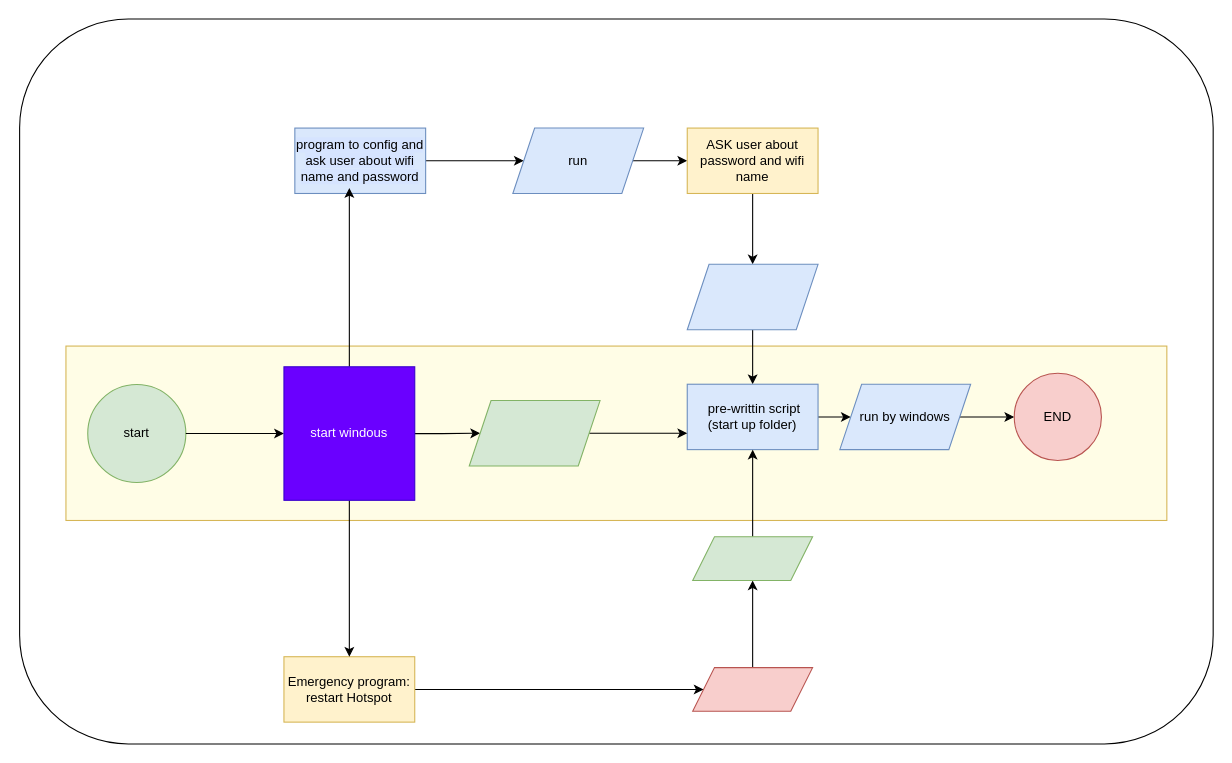
This 1232x763 diagram has some shape labels left out. Each missing label, with the centre of its shape:
Restart: point (752, 689)
run again: point (752, 558)
run startup folder Windous: point (534, 432)
save it as script in start up folder: point (752, 296)
